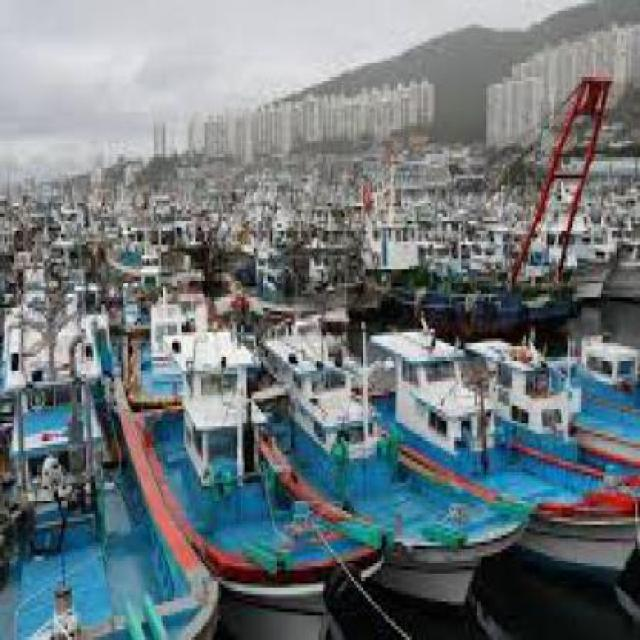fish-b: (113, 329, 394, 631), (257, 312, 536, 613), (1, 323, 229, 637)
